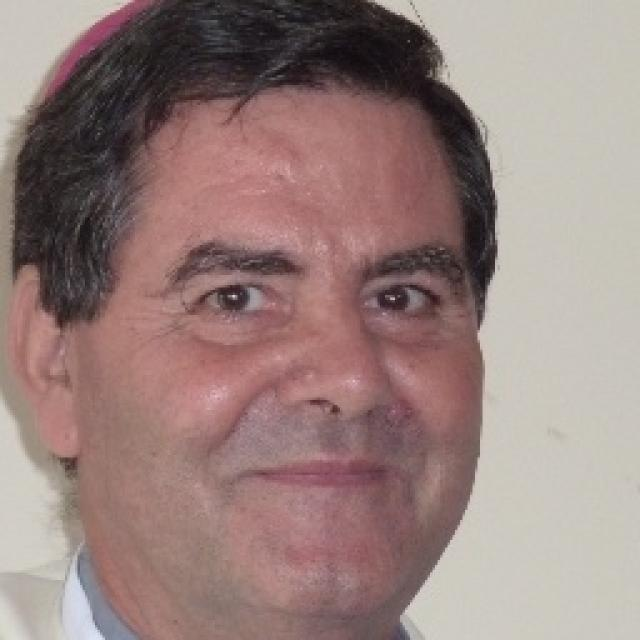earlobe: (8, 262, 81, 466)
